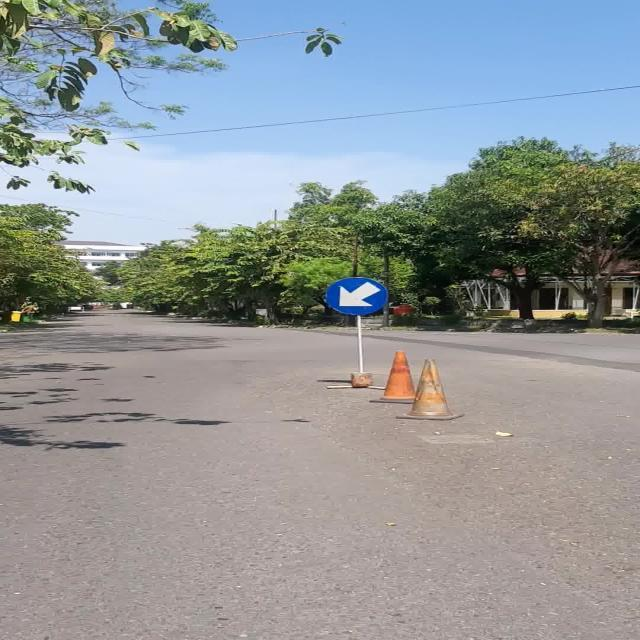Lajur Kiri: (326, 277, 388, 315)
